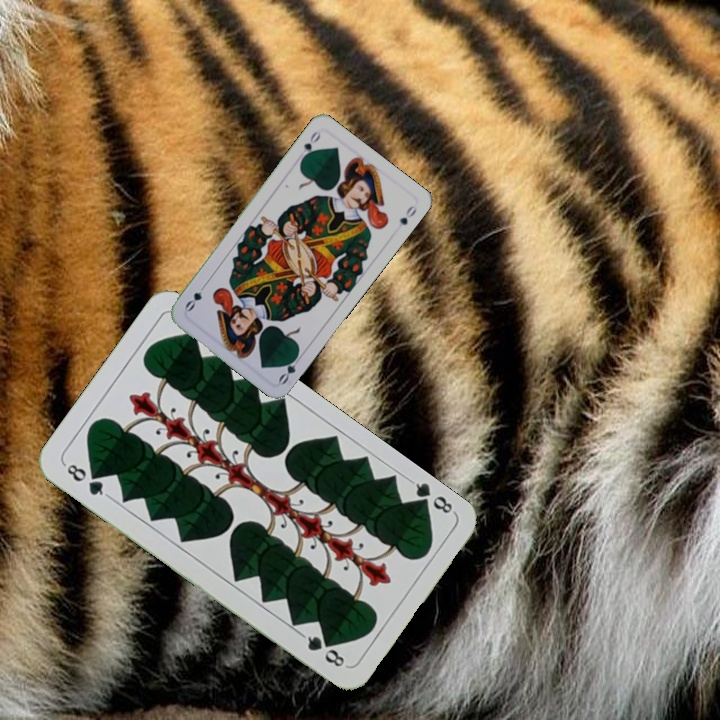G8: (406, 475, 457, 517), (60, 459, 112, 500)
GO: (274, 349, 305, 387), (297, 127, 323, 164)
